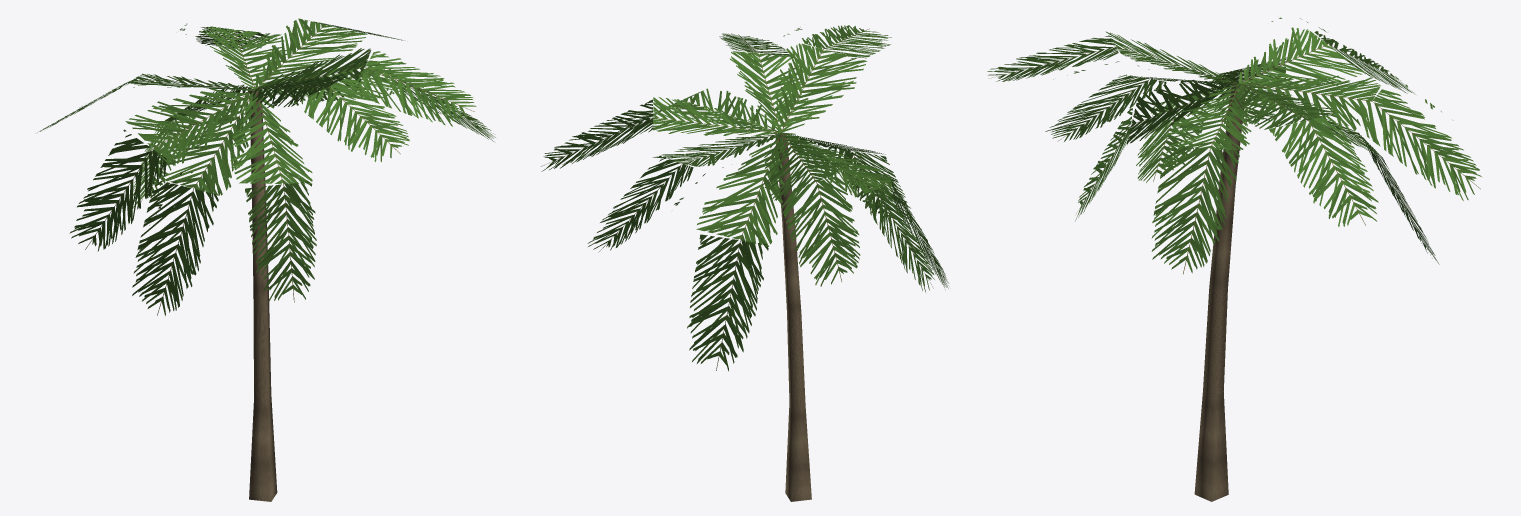
The model's file is mid.glb.
The picture shows the model from 3 angles, left to right: view 1: azimuth 30°, elevation 25°; view 2: azimuth 150°, elevation 25°; view 3: azimuth 270°, elevation 25°; orthographic projection. The views are drawn at different scales.
Visible parts, largest first — view 1: palm_03; view 2: palm_03; view 3: palm_03.
Part boxes in pixels (left/top/right/bottom): palm_03: left=37, top=18, right=495, bottom=501; palm_03: left=541, top=25, right=948, bottom=501; palm_03: left=987, top=17, right=1481, bottom=501.
Bounding box in the file's own units: 10.25 × 10.81 × 11.06.
Materials: 2 (2 with a texture image).
